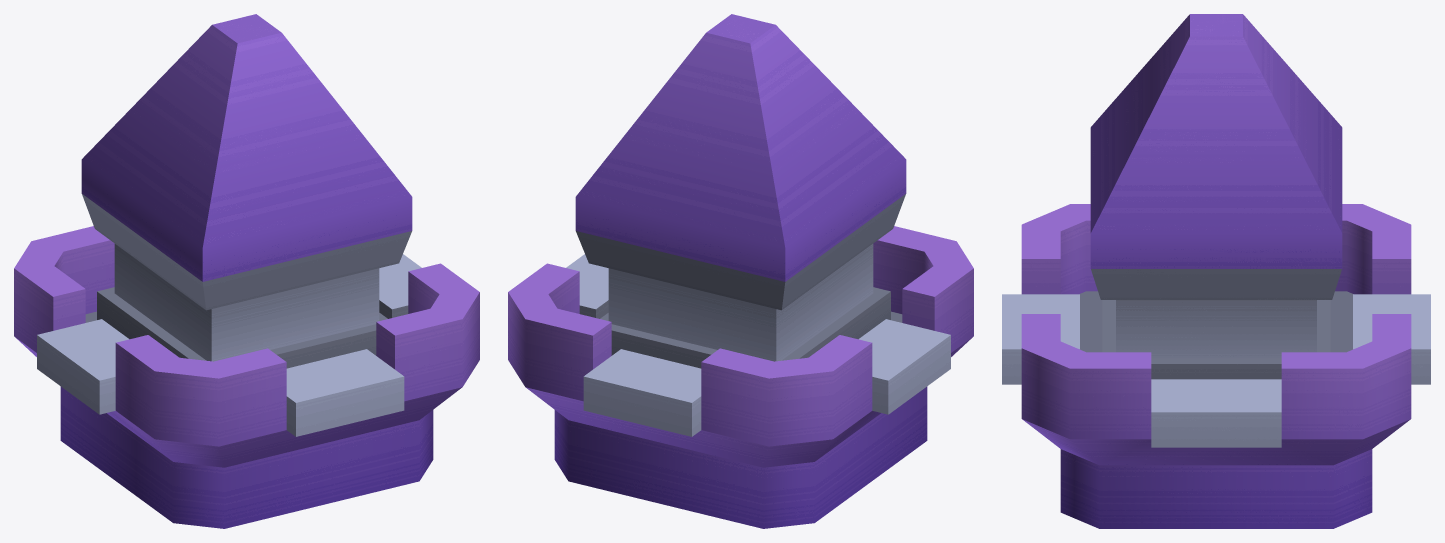
File: tower-defense-kit--tower-square-roof-b.glb
3 renders of one model, left to right at view 1: azimuth 30°, elevation 25°; view 2: azimuth 150°, elevation 25°; view 3: azimuth 270°, elevation 25°, orthographic. The views are drawn at different scales.
Parts seen in each view (by area): view 1: tower-square-roof-b; view 2: tower-square-roof-b; view 3: tower-square-roof-b.
Boxes of the visible parts, x1,y1,x2,y2 form: tower-square-roof-b: [14, 14, 479, 528]; tower-square-roof-b: [508, 14, 973, 528]; tower-square-roof-b: [1002, 14, 1430, 528].
Size of the model in its own units: 1.1 by 1.24 by 1.1.
1 material, 1 textured.
